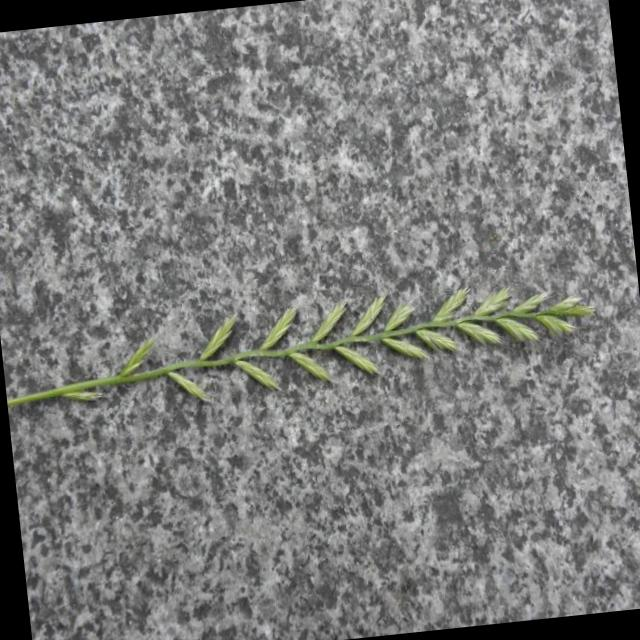Lolium: (0, 265, 600, 428)
